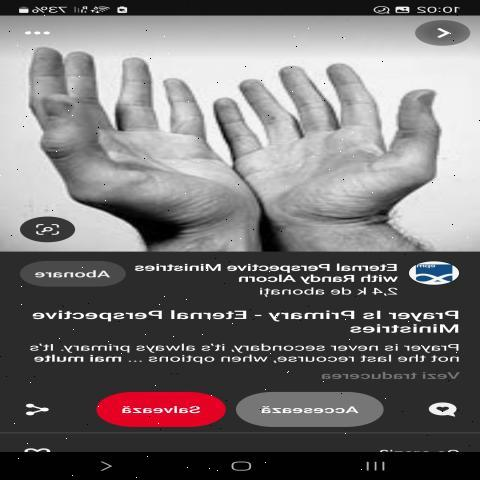Hands: (207, 24, 466, 248), (13, 22, 206, 245)
